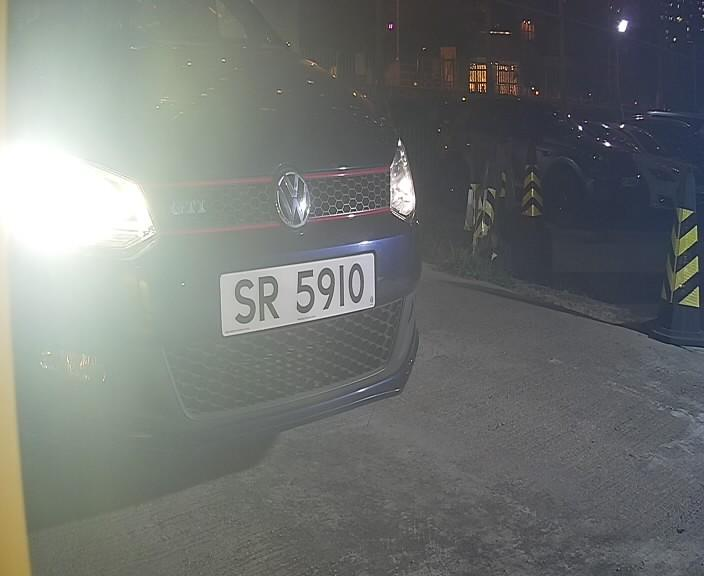Car: (4, 19, 525, 481)
License Plate: (214, 245, 378, 337)
